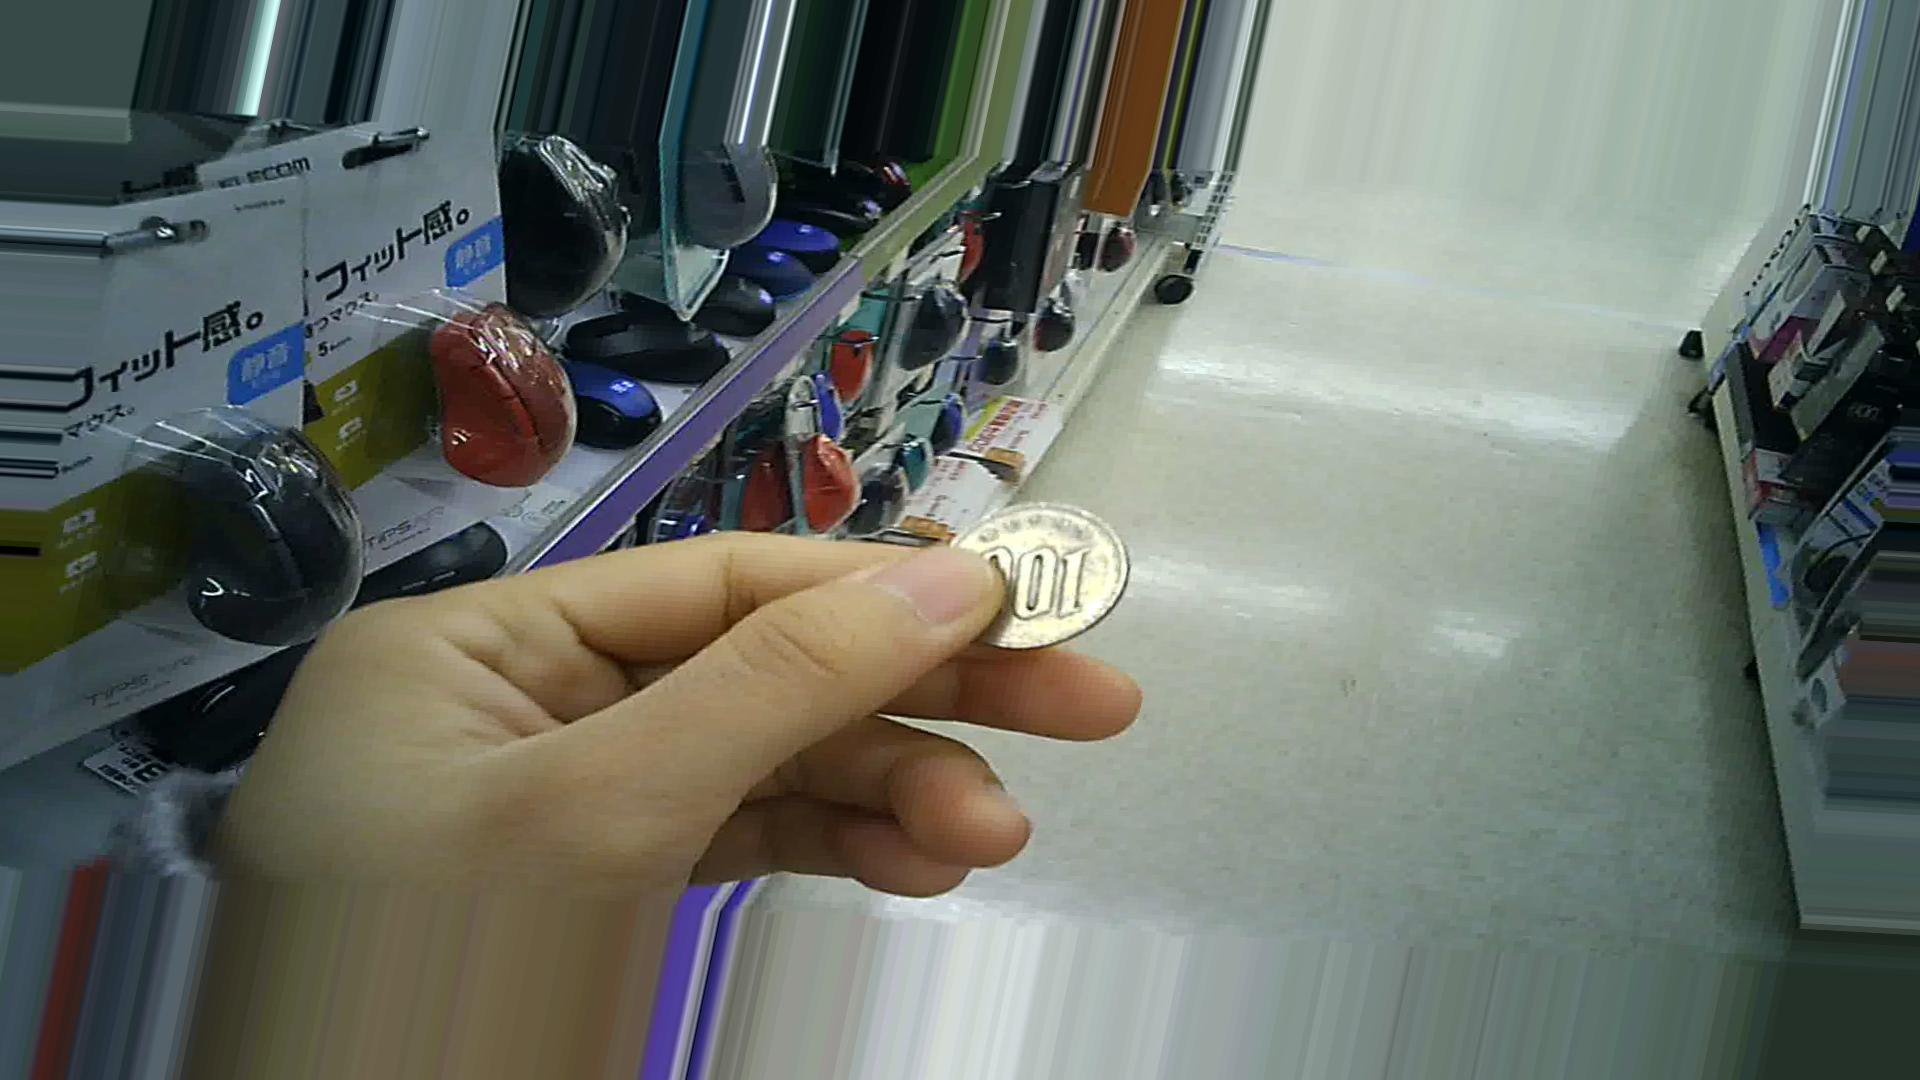100 Yen: (928, 495, 1139, 692)
